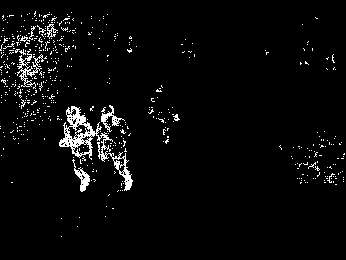person: (60, 103, 97, 192), (98, 102, 134, 192), (150, 81, 178, 144)
